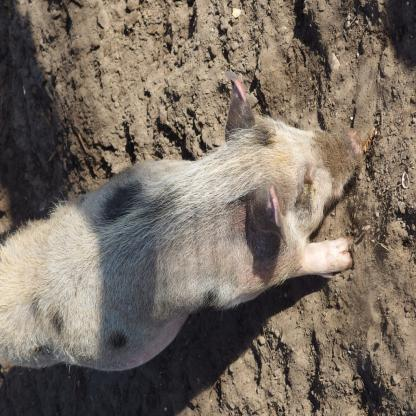boar: (0, 72, 363, 375)
